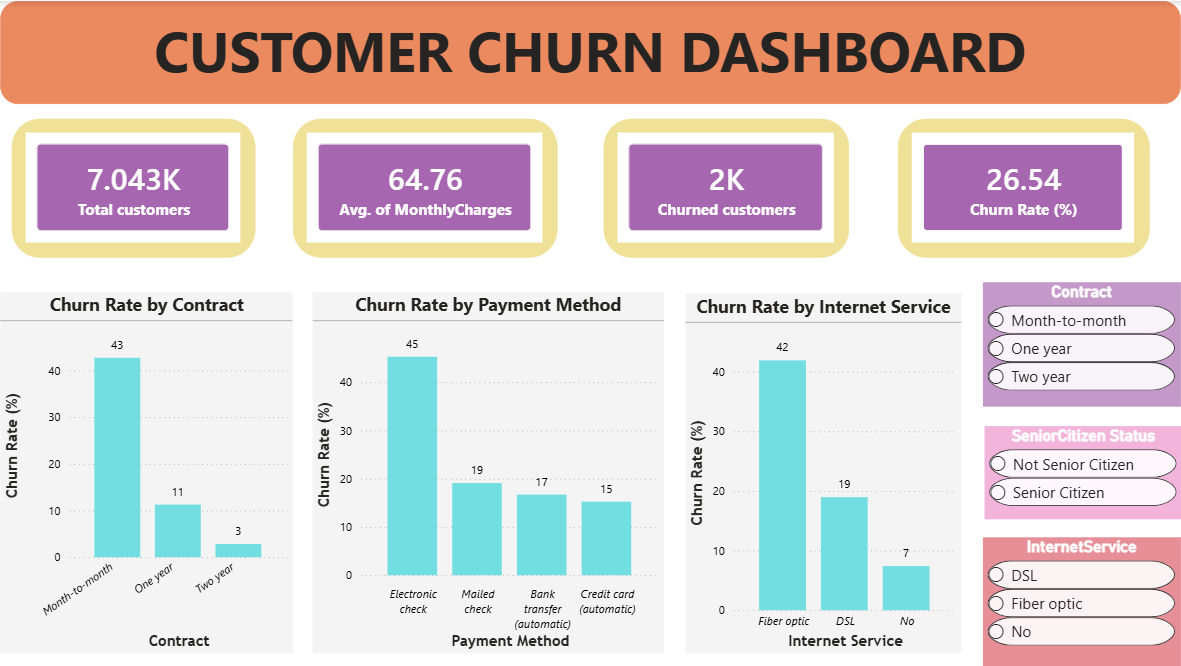

The dashboard page shown, as its layout file describes it:
{"tool":"powerbi","page":{"name":"Page 1","canvas":[1280,720],"ordinal":0},"visuals":[{"type":"textbox","box":[22.5,0,1247,108.8],"z":0},{"type":"cardVisual","fields":{"Data":["Avg(customer_churn.MonthlyCharges)"]},"box":[331.6,124.4,279.8,146.8],"z":1000},{"type":"cardVisual","fields":{"Data":["Sum(customer_churn.Churn_Flag)"]},"box":[659.8,124.4,259.1,146.8],"z":2000},{"type":"cardVisual","fields":{"Data":["CountNonNull(customer_churn.customerID)"]},"box":[34.5,124.4,257.3,146.8],"z":3000},{"type":"cardVisual","fields":{"Data":["customer_churn.churn_rate"]},"box":[970.7,124.4,266,146.8],"z":4000},{"type":"clusteredColumnChart","title":"Churn Rate by Contract","fields":{"Category":["customer_churn.Contract"],"Y":["customer_churn.churn_rate"]},"box":[22.5,307.4,309.2,381.7],"z":5000},{"type":"listSlicer","fields":{"Values":["customer_churn.Contract"]},"box":[1060.5,297.1,209,131.3],"z":6000},{"type":"listSlicer","fields":{"Values":["customer_churn.SeniorCitizen Status"]},"box":[1062.2,449.1,209,98.4],"z":7000},{"type":"listSlicer","fields":{"Values":["customer_churn.InternetService"]},"box":[1060.5,566.5,209,136.4],"z":8000},{"type":"clusteredColumnChart","title":"Churn Rate by Payment Method","fields":{"Category":["customer_churn.PaymentMethod"],"Y":["customer_churn.churn_rate"]},"box":[352.3,307.4,371.3,381.7],"z":9000},{"type":"clusteredColumnChart","title":"Churn Rate by Internet Service","fields":{"Category":["customer_churn.InternetService"],"Y":["customer_churn.churn_rate"]},"box":[746.1,309.2,291.9,380],"z":10000}]}

Visuals, with their boxes in screenshot pixels (x1, y1, x2, y2), scaled from the page's 1280x720 canvas onto the 1181x666 screenshot:
textbox: (left=21, top=0, right=1171, bottom=101)
cardVisual - Avg(customer_churn.MonthlyCharges): (left=306, top=115, right=564, bottom=251)
cardVisual - Sum(customer_churn.Churn_Flag): (left=609, top=115, right=848, bottom=251)
cardVisual - CountNonNull(customer_churn.customerID): (left=32, top=115, right=269, bottom=251)
cardVisual - customer_churn.churn_rate: (left=896, top=115, right=1141, bottom=251)
"Churn Rate by Contract" clusteredColumnChart: (left=21, top=284, right=306, bottom=637)
listSlicer - customer_churn.Contract: (left=978, top=275, right=1171, bottom=396)
listSlicer - customer_churn.SeniorCitizen Status: (left=980, top=415, right=1173, bottom=506)
listSlicer - customer_churn.InternetService: (left=978, top=524, right=1171, bottom=650)
"Churn Rate by Payment Method" clusteredColumnChart: (left=325, top=284, right=668, bottom=637)
"Churn Rate by Internet Service" clusteredColumnChart: (left=688, top=286, right=958, bottom=638)
